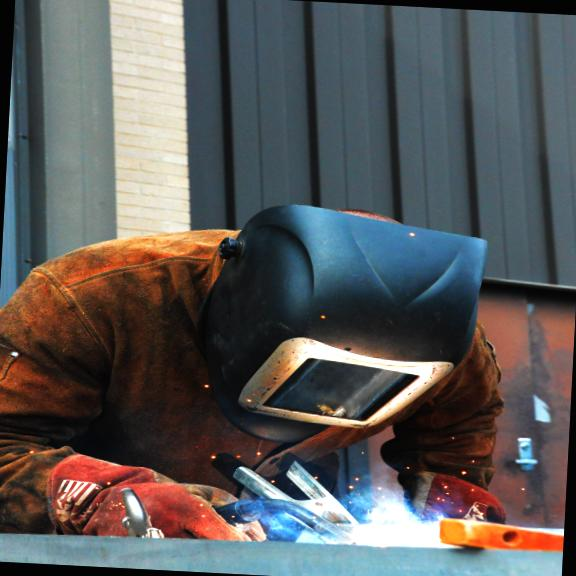no_safety_vest: (0, 175, 447, 551)
